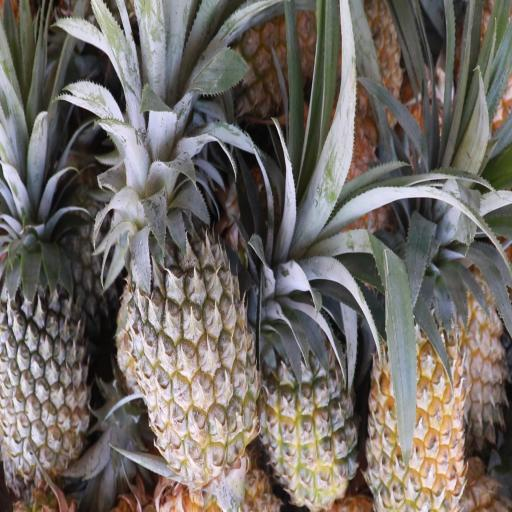------------------------------: (123, 208, 264, 504), (257, 309, 362, 512)
Pineapple - v8 v1: (364, 293, 470, 512)
